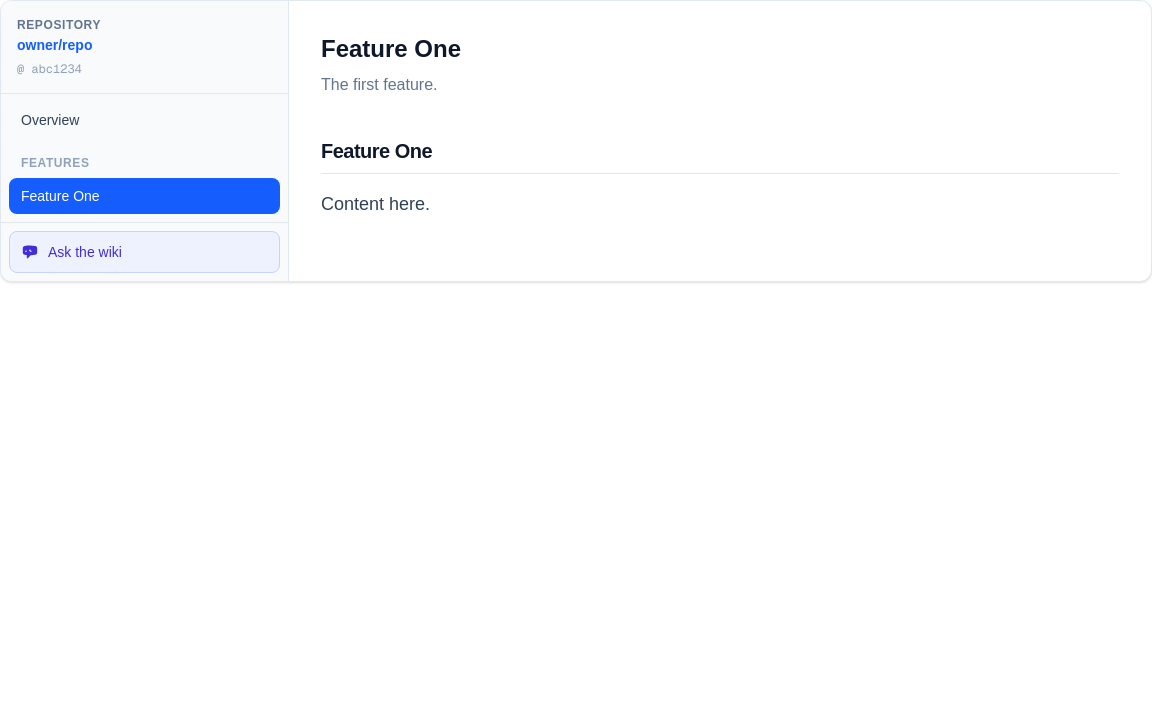
Scenario: WikiViewer Q&A › shows an error alert when askQuestion rejects
Click the button "Ask the wiki" at (85, 252), box left=9, top=231, right=280, bottom=273
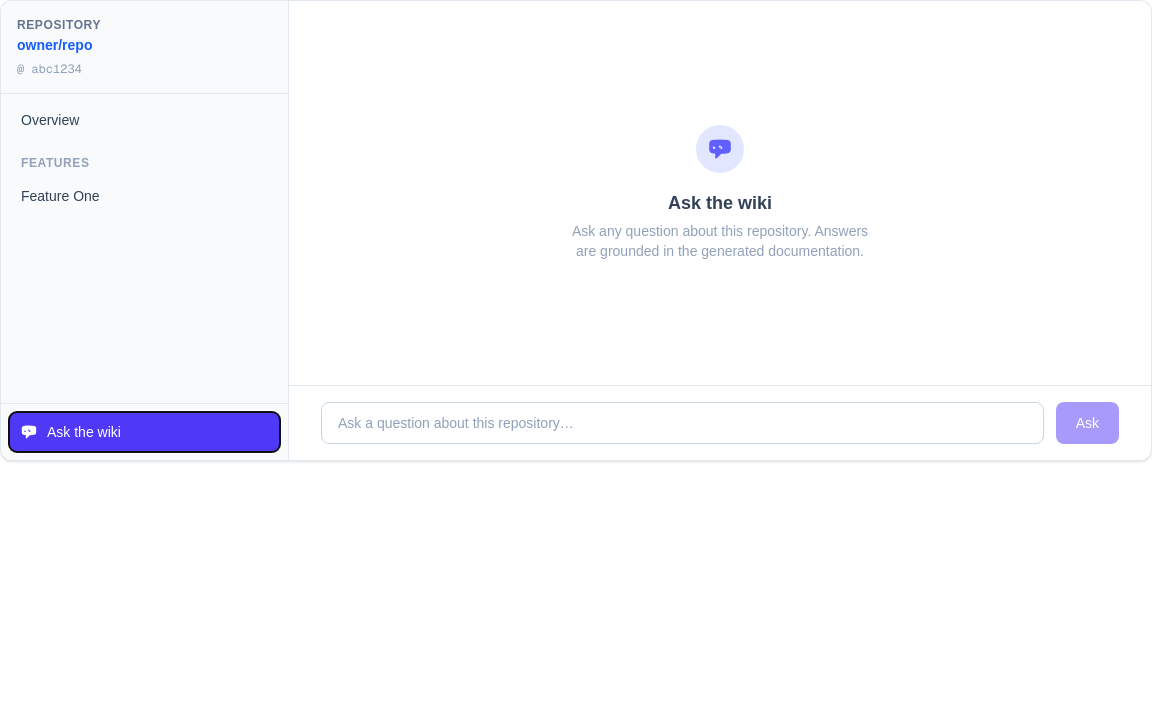
Type "What is this?" into the field named "ask a question about this wiki" at (682, 423), box left=321, top=402, right=1044, bottom=444
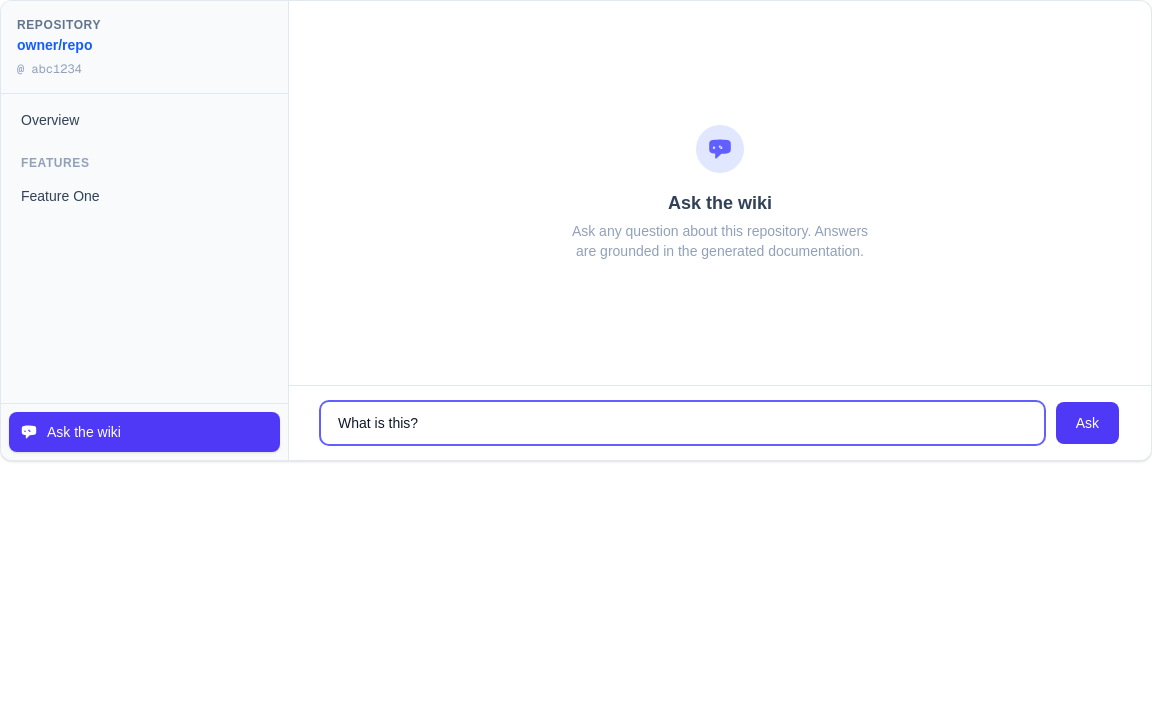
Click the button with aria-label "ask question" at (1087, 423), box left=1056, top=402, right=1119, bottom=444
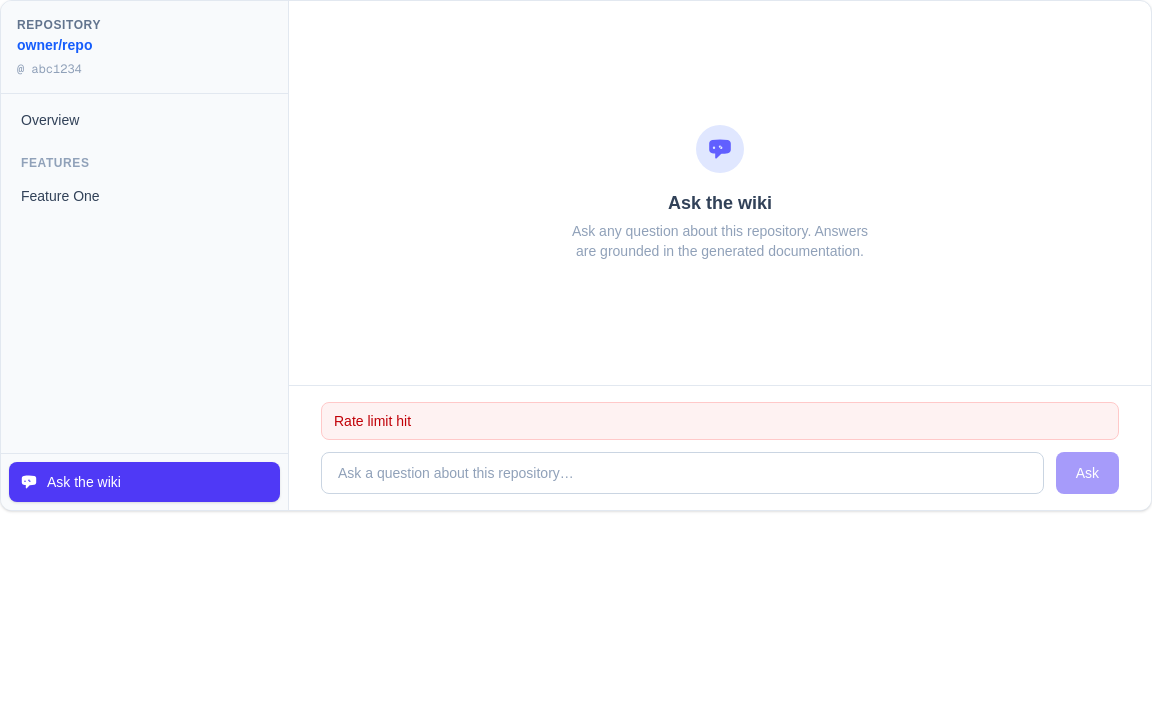
Now the message "Rate limit hit" is shown, box left=321, top=402, right=1119, bottom=440
Now the message reads "Rate limit hit", box left=334, top=413, right=411, bottom=429
